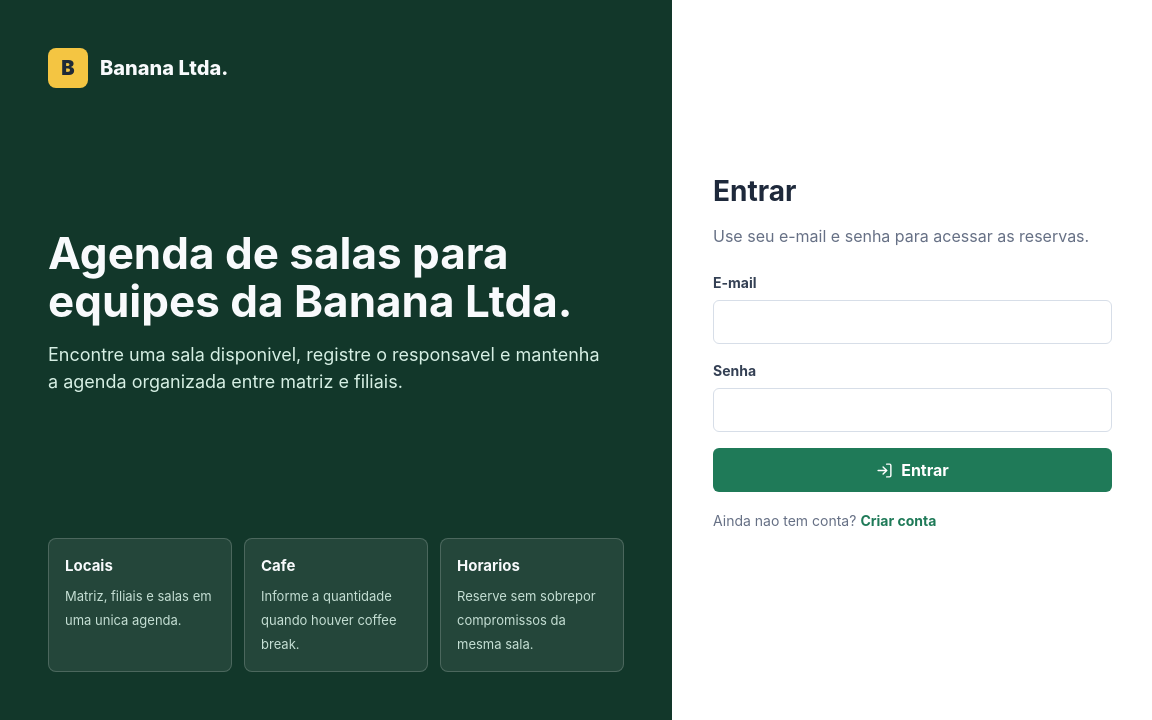
App auth flow › renders register mode and validates required fields
Click the button "Criar conta": (898, 521) left=860, top=510, right=936, bottom=531
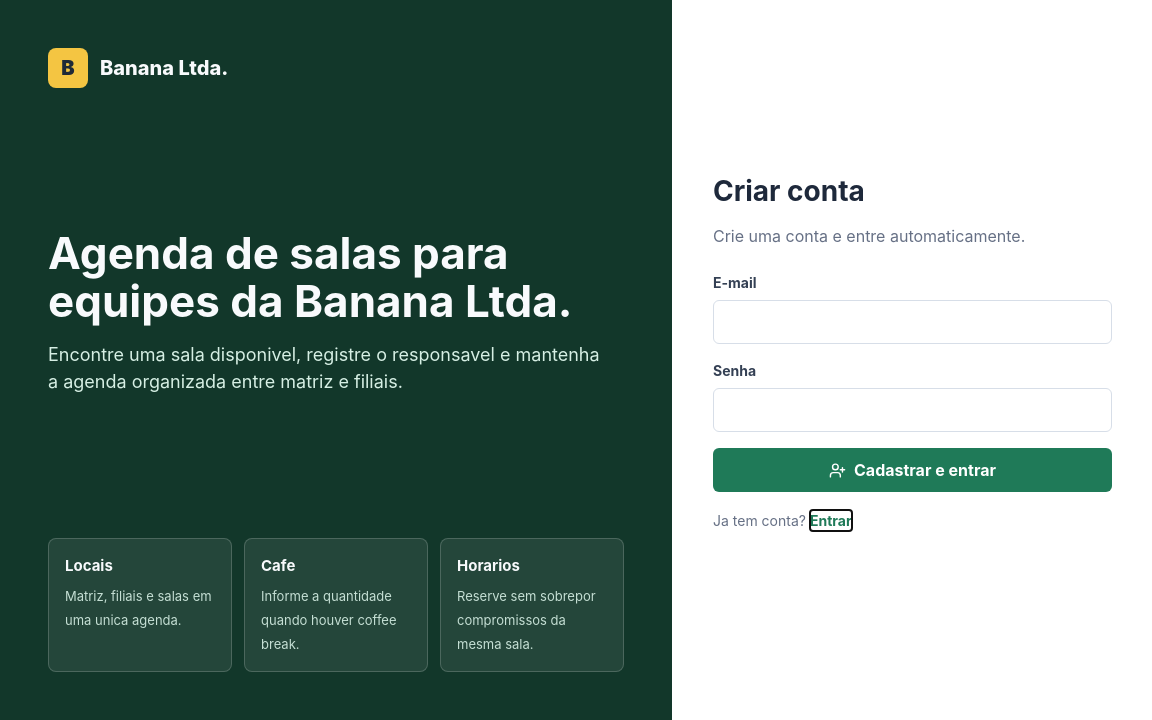
Click the button "Cadastrar e entrar": (912, 470) left=713, top=448, right=1112, bottom=492
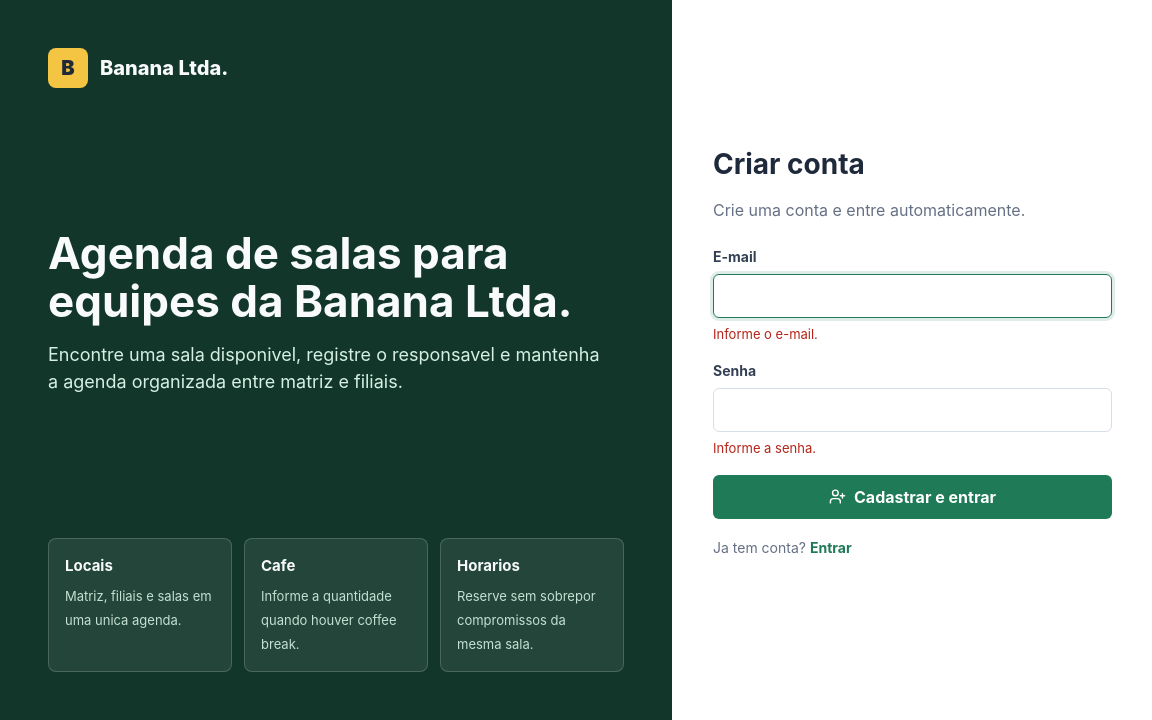
Expected: the heading "Criar conta" is shown, left=713, top=147, right=865, bottom=181
Expected: the text "Informe o e-mail." is shown, left=713, top=326, right=818, bottom=342
